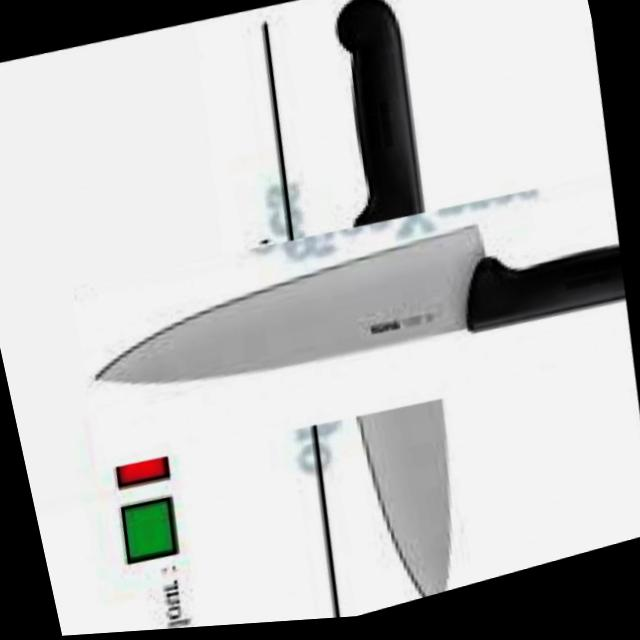knife: (268, 0, 518, 617), (84, 190, 630, 448)
